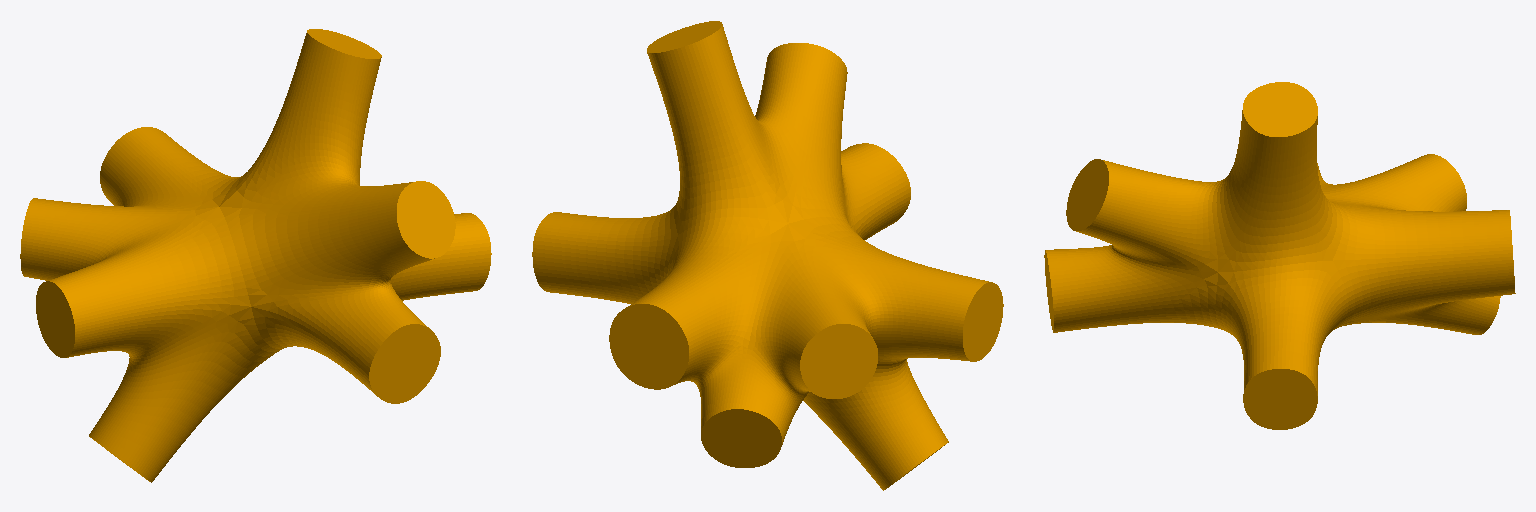
URDF robot description (object):
<robot name="object">
  <link name="object">
    <visual>
      <origin xyz="0 0 0"/>
      <geometry>
        <mesh filename="visual.obj" scale="1 1 1"/>
      </geometry>
    </visual>
    <collision>
      <origin xyz="0 0 0"/>
      <geometry>
        <mesh filename="visual.obj" scale="1 1 1"/>
      </geometry>
    </collision>
    <inertial>
      <mass value="0.05"/>
      <inertia ixx="9.798563474147172e-05" iyy="8.725117208679256e-05" izz="0.00012293896808509595" ixy="1.848607424433998e-05" ixz="-1.5314632307047307e-05" iyz="8.586980371954711e-06"/>
    </inertial>
  </link>
</robot>

--- Facts derived from the render (not from the file) ---
The picture shows the robot from 3 angles, left to right: view 1: azimuth 30°, elevation 25°; view 2: azimuth 150°, elevation 25°; view 3: azimuth 270°, elevation 25°; orthographic projection.
Model object with 1 links and 0 joints (none), rooted at object, posed every joint at zero.
Links seen in each view (by area): view 1: object; view 2: object; view 3: object.
Boxes of the visible links, x1,y1,x2,y2 form: object: (20,29,491,482); object: (532,21,1003,490); object: (1044,82,1515,429).
Size in the robot's own frame: 0.1844 by 0.1852 by 0.1667 metres.
1 mesh visuals loaded from 1 distinct referenced files (1 OBJ).
